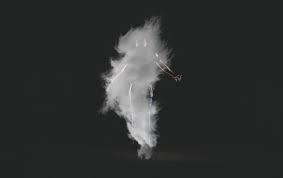smoke: (103, 13, 179, 161)
